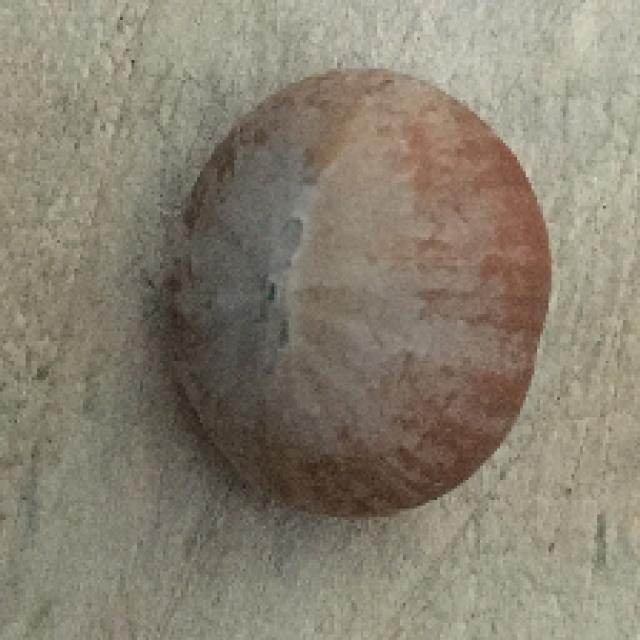qualityHazelnut: (169, 62, 556, 529)
